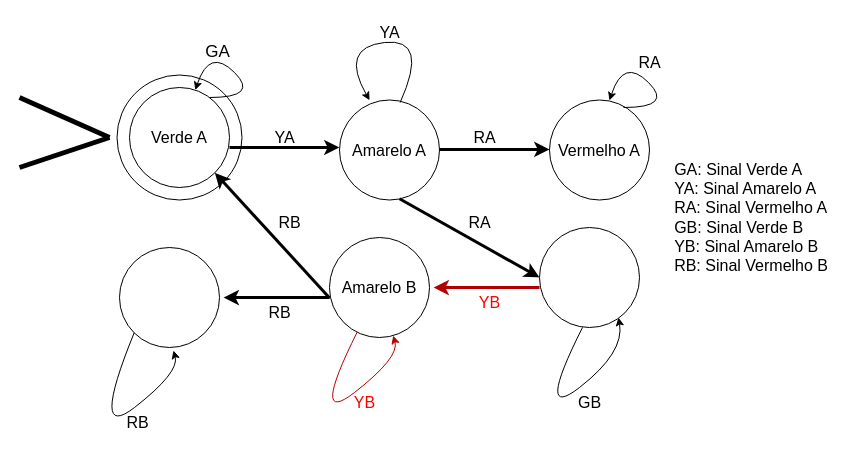
Some shapes in this 847 by 454 pixel diagram are drawn without their labels. Each missing label, with the centre of its shape:
"Verde B" belongs at point (589, 277).
"Vermelho B" belongs at point (169, 297).
